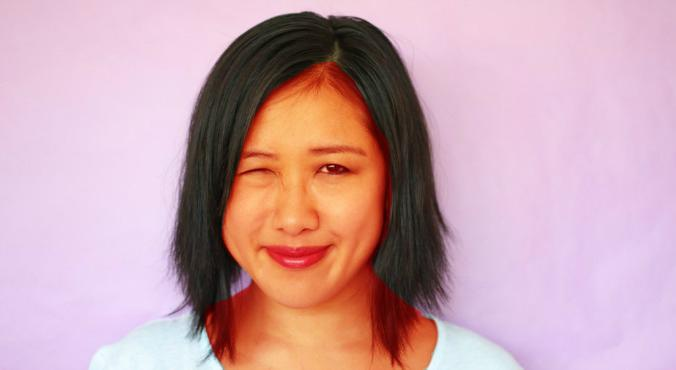Drunk: (225, 81, 374, 305)
